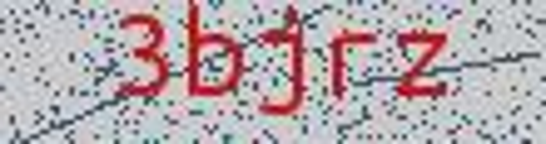3: (110, 8, 171, 107)
b: (176, 1, 248, 104)
j: (251, 2, 313, 121)
r: (322, 19, 380, 112)
z: (391, 25, 458, 106)
